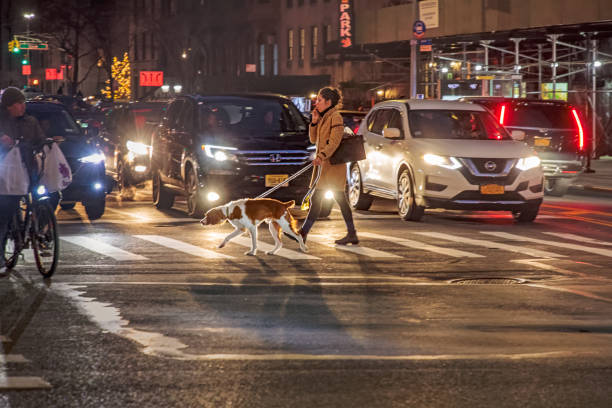kopek: (197, 197, 300, 277)
otomobil: (355, 89, 564, 234), (153, 86, 339, 226)
yaya: (0, 89, 71, 284), (304, 84, 383, 252)
